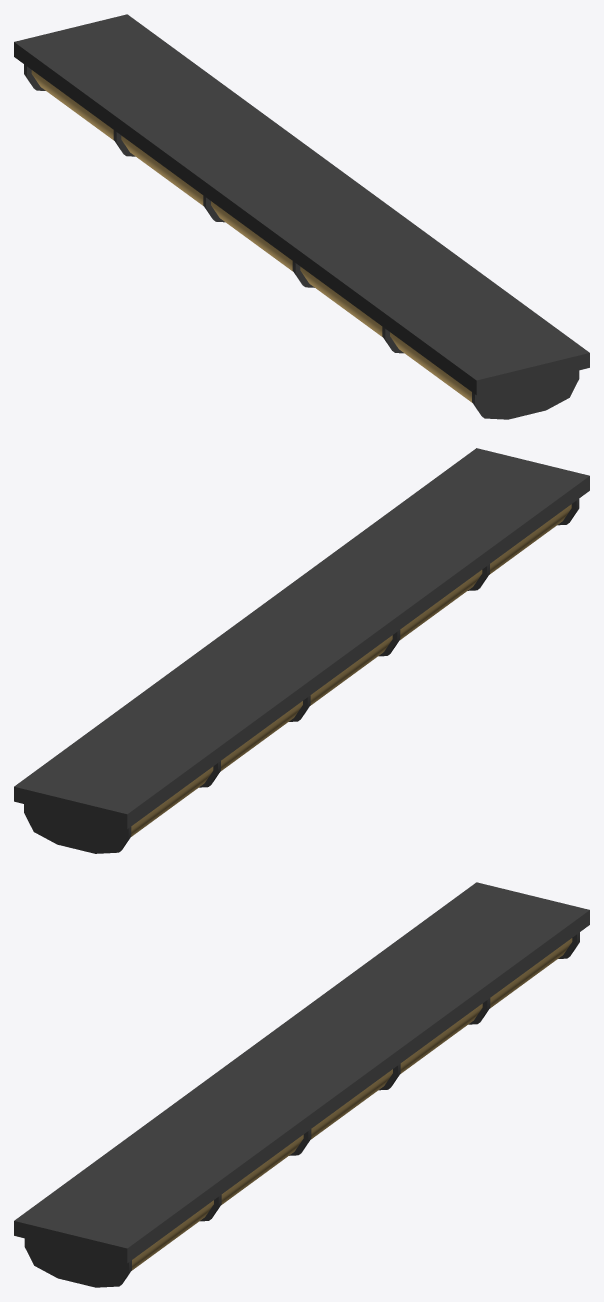
The model's file is luminaria.fbx.
The picture shows the model from 3 angles, top to bottom: view 1: azimuth 30°, elevation 25°; view 2: azimuth 150°, elevation 25°; view 3: azimuth 330°, elevation 25°; orthographic projection.
Visible parts, largest first — view 1: Luminaria; view 2: Luminaria; view 3: Luminaria.
Part boxes in pixels (x1,y1,x2,y2): Luminaria: [14, 14, 589, 419]; Luminaria: [14, 448, 589, 853]; Luminaria: [14, 882, 589, 1287].
Size of the model in its own units: 29.28 by 13.04 by 207.
